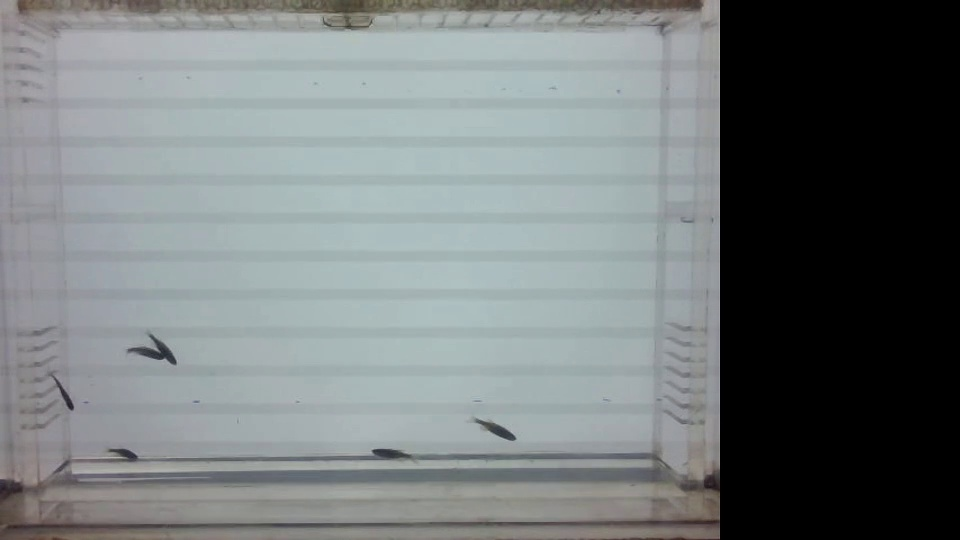fish: (464, 409, 518, 446), (48, 369, 81, 420), (144, 324, 180, 366), (368, 440, 418, 461), (121, 346, 162, 369), (101, 442, 140, 464)
